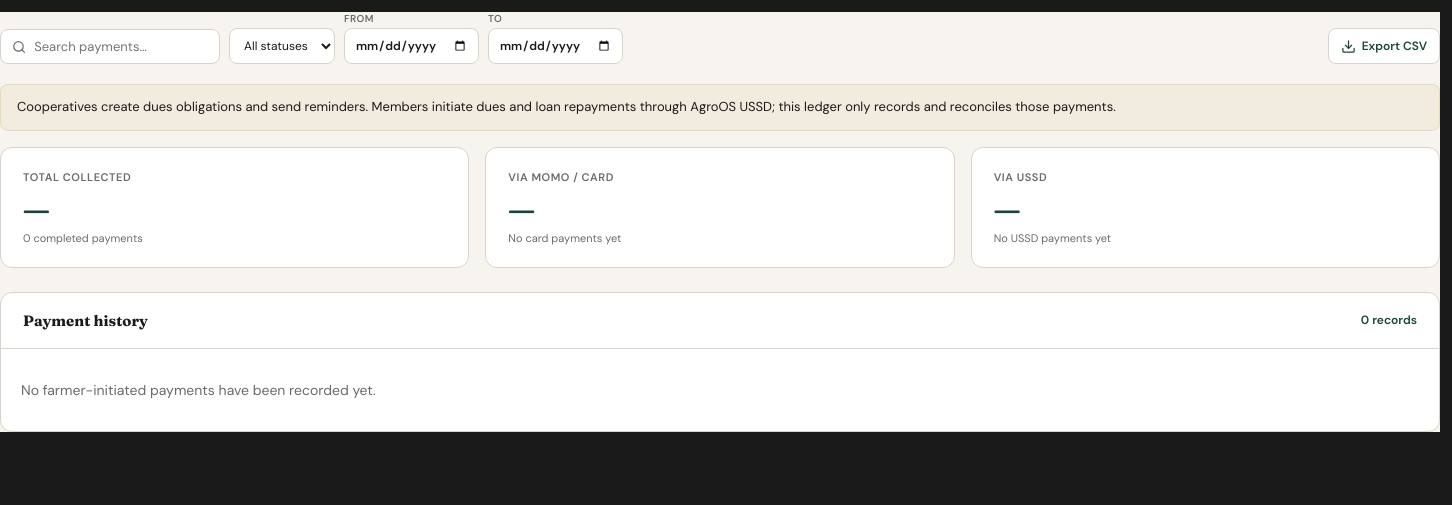
Scenario: dashboard report export errors › announces Payments export failures
This screenshot has width=1452, height=505.
Click the button "Export CSV". click: (1384, 46)
box: [1328,28,1440,64]
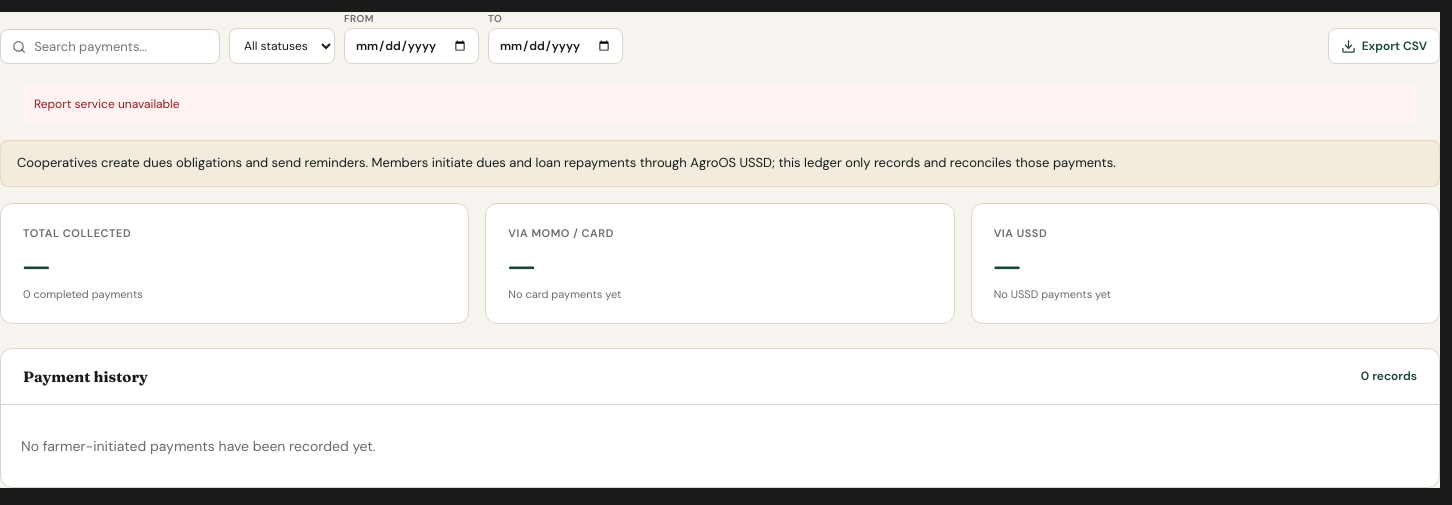
Now the message "Report service unavailable" is shown, box [22,84,1418,124]
